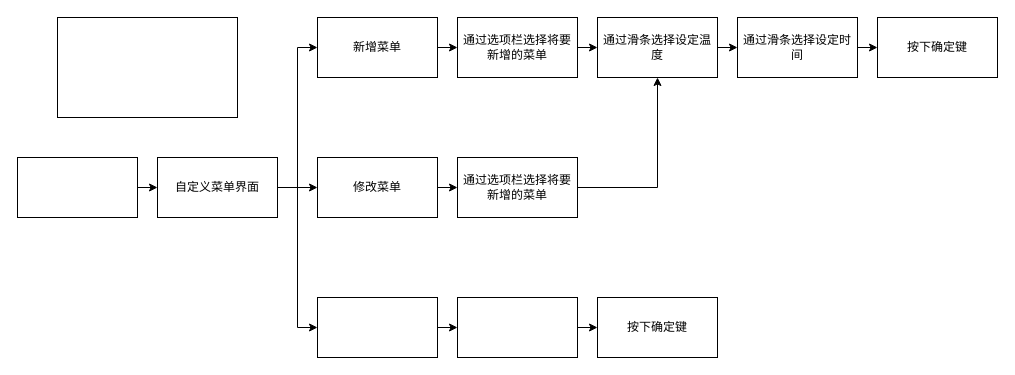
Image size: 1015x375. Some labels were removed from this diagram. Each missing label, with the centre of its shape:
- 菜单名 - 设定时间 - 设定温度 - 设定温度单位 - 滤油次数 - 摇篮时间: the point at 147,67
删除菜单: the point at 377,327
设置界面的设置菜单按键: the point at 77,187
通过选项栏选择菜单: the point at 517,327
